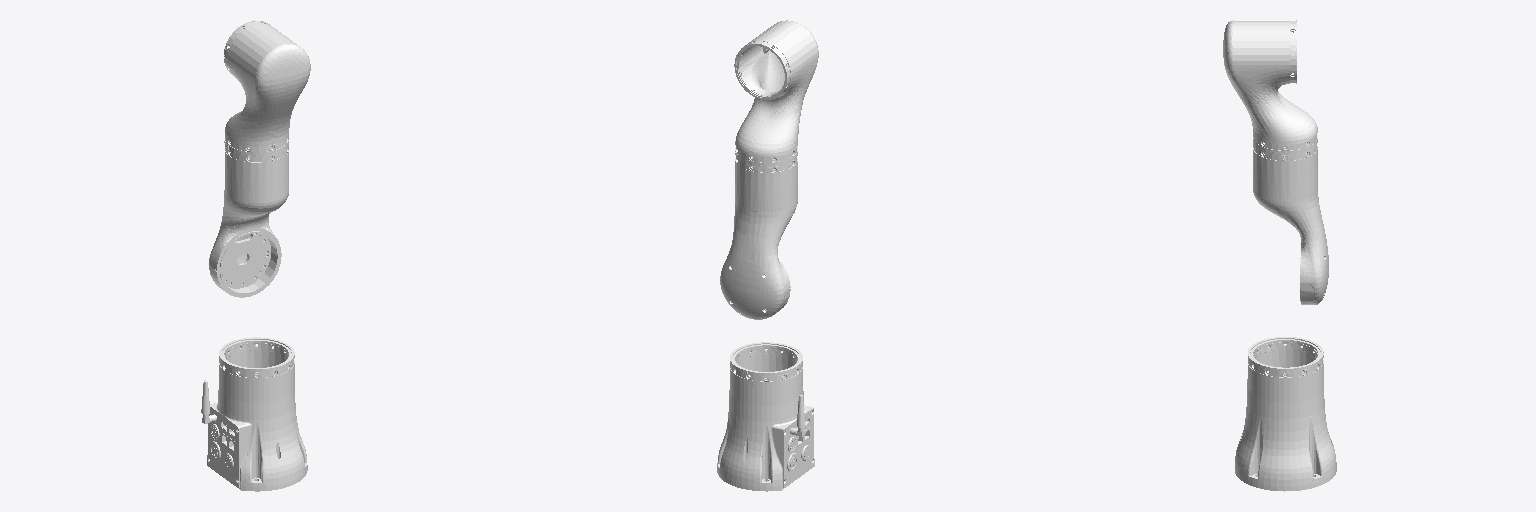
URDF robot description (rm_75_description):
<robot
  name="rm_75_description">
  <link
    name="base_link">
    <inertial>
      <origin
        xyz="-0.00036413 0.00018052 0.052375"
        rpy="0 0 0" />
      <mass
        value="0.31318" />
      <inertia
        ixx="0.00073728"
        ixy="1.5275E-06"
        ixz="1.7514E-05"
        iyy="0.00072364"
        iyz="8.0836E-07"
        izz="0.00048703" />
    </inertial>
    <visual>
      <origin
        xyz="0 0 0"
        rpy="0 0 0" />
      <geometry>
        <mesh
          filename="package://rm_75_description/meshes/base_link.STL" />
      </geometry>
      <material
        name="">
        <color
          rgba="1 1 1 1" />
      </material>
    </visual>
    <collision>
      <origin
        xyz="0 0 0"
        rpy="0 0 0" />
      <geometry>
        <mesh
          filename="package://rm_75_description/meshes/base_link.STL" />
      </geometry>
    </collision>
  </link>
  <link
    name="Link1">
    <inertial>
      <origin
        xyz="-1.7986E-05 -0.0216 0.071926"
        rpy="0 0 0" />
      <mass
        value="0.20084" />
      <inertia
        ixx="0.00053114"
        ixy="-4.3278E-07"
        ixz="1.0479E-06"
        iyy="0.00049744"
        iyz="0.00010625"
        izz="0.0002821" />
    </inertial>
    <visual>
      <origin
        xyz="0 0 0"
        rpy="0 0 0" />
      <geometry>
        <mesh
          filename="package://rm_75_description/meshes/Link1.STL" />
      </geometry>
      <material
        name="">
        <color
          rgba="1 1 1 1" />
      </material>
    </visual>
    <collision>
      <origin
        xyz="0 0 0"
        rpy="0 0 0" />
      <geometry>
        <mesh
          filename="package://rm_75_description/meshes/Link1.STL" />
      </geometry>
    </collision>
  </link>
  <joint
    name="joint1"
    type="revolute">
    <origin
      xyz="-0.00019414 -0.0001 0.138"
      rpy="0 0 0" />
    <parent
      link="base_link" />
    <child
      link="Link1" />
    <axis
      xyz="0 0 1" />
    <limit
      lower="-3.14"
      upper="3.14"
      effort="300"
      velocity="3.14" />
    <dynamics
      damping="50"
      friction="1" />
  </joint>
  <link
    name="Link2">
    <inertial>
      <origin
        xyz="0.06408 -9.195E-07 0.0021525"
        rpy="0 0 0" />
      <mass
        value="0.18101" />
      <inertia
        ixx="0.00017127"
        ixy="9.5334E-09"
        ixz="-0.00011909"
        iyy="0.00056507"
        iyz="7.4924E-10"
        izz="0.00056467" />
    </inertial>
    <visual>
      <origin
        xyz="0 0 0"
        rpy="0 0 0" />
      <geometry>
        <mesh
          filename="package://rm_75_description/meshes/Link2.STL" />
      </geometry>
      <material
        name="">
        <color
          rgba="1 1 1 1" />
      </material>
    </visual>
    <collision>
      <origin
        xyz="0 0 0"
        rpy="0 0 0" />
      <geometry>
        <mesh
          filename="package://rm_75_description/meshes/Link2.STL" />
      </geometry>
    </collision>
  </link>
  <joint
    name="joint2"
    type="revolute">
    <origin
      xyz="0 0.016171 0.1012"
      rpy="1.5708 -1.5708 0" />
    <parent
      link="Link1" />
    <child
      link="Link2" />
    <axis
      xyz="0 0 -1" />
    <limit
      lower="-2.269"
      upper="2.269"
      effort="300"
      velocity="3.14" />
    <dynamics
      damping="50"
      friction="1" />
  </joint>
  <link
    name="Link3">
    <inertial>
      <origin
        xyz="-9.2535E-05 0.022952 0.06984"
        rpy="0 0 0" />
      <mass
        value="0.14029" />
      <inertia
        ixx="0.00033103"
        ixy="-1.498E-07"
        ixz="-5.897E-07"
        iyy="0.00030383"
        iyz="-6.9702E-05"
        izz="0.00015901" />
    </inertial>
    <visual>
      <origin
        xyz="0 0 0"
        rpy="0 0 0" />
      <geometry>
        <mesh
          filename="package://rm_75_description/meshes/Link3.STL" />
      </geometry>
      <material
        name="">
        <color
          rgba="1 1 1 1" />
      </material>
    </visual>
    <collision>
      <origin
        xyz="0 0 0"
        rpy="0 0 0" />
      <geometry>
        <mesh
          filename="package://rm_75_description/meshes/Link3.STL" />
      </geometry>
    </collision>
  </link>
  <joint
    name="joint3"
    type="revolute">
    <origin
      xyz="0.1525 0 0.016461"
      rpy="1.5708 0 1.5708" />
    <parent
      link="Link2" />
    <child
      link="Link3" />
    <axis
      xyz="0 0 1" />
    <limit
      lower="-3.14"
      upper="3.14"
      effort="300"
      velocity="3.14" />
    <dynamics
      damping="50"
      friction="1" />
  </joint>
  <link
    name="Link4">
    <inertial>
      <origin
        xyz="-3.5669E-06 -0.051287 2.1095E-05"
        rpy="0 0 0" />
      <mass
        value="0.10277" />
      <inertia
        ixx="0.00023647"
        ixy="-2.8544E-09"
        ixz="-4.0488E-10"
        iyy="7.3686E-05"
        iyz="5.2218E-05"
        izz="0.00023387" />
    </inertial>
    <visual>
      <origin
        xyz="0 0 0"
        rpy="0 0 0" />
      <geometry>
        <mesh
          filename="package://rm_75_description/meshes/Link4.STL" />
      </geometry>
      <material
        name="">
        <color
          rgba="1 1 1 1" />
      </material>
    </visual>
    <collision>
      <origin
        xyz="0 0 0"
        rpy="0 0 0" />
      <geometry>
        <mesh
          filename="package://rm_75_description/meshes/Link4.STL" />
      </geometry>
    </collision>
  </link>
  <joint
    name="joint4"
    type="revolute">
    <origin
      xyz="0 -0.012936 0.10326"
      rpy="-1.5708 -1.2512E-12 -4.4936E-28" />
    <parent
      link="Link3" />
    <child
      link="Link4" />
    <axis
      xyz="0 0 -1" />
    <limit
      lower="-2.355"
      upper="2.355"
      effort="300"
      velocity="3.14" />
    <dynamics
      damping="50"
      friction="1" />
  </joint>
  <link
    name="Link5">
    <inertial>
      <origin
        xyz="6.7914E-05 0.017207 0.05505"
        rpy="0 0 0" />
      <mass
        value="0.075153" />
      <inertia
        ixx="0.00011497"
        ixy="1.5504E-08"
        ixz="2.0317E-07"
        iyy="0.00010599"
        iyz="-2.14E-05"
        izz="5.7124E-05" />
    </inertial>
    <visual>
      <origin
        xyz="0 0 0"
        rpy="0 0 0" />
      <geometry>
        <mesh
          filename="package://rm_75_description/meshes/Link5.STL" />
      </geometry>
      <material
        name="">
        <color
          rgba="1 1 1 1" />
      </material>
    </visual>
    <collision>
      <origin
        xyz="0 0 0"
        rpy="0 0 0" />
      <geometry>
        <mesh
          filename="package://rm_75_description/meshes/Link5.STL" />
      </geometry>
    </collision>
  </link>
  <joint
    name="joint5"
    type="revolute">
    <origin
      xyz="0 -0.128 0.013234"
      rpy="1.5708 0 1.2512E-12" />
    <parent
      link="Link4" />
    <child
      link="Link5" />
    <axis
      xyz="0 0 1" />
    <limit
      lower="-3.14"
      upper="3.14"
      effort="300"
      velocity="3.14" />
    <dynamics
      damping="50"
      friction="1" />
  </joint>
  <link
    name="Link6">
    <inertial>
      <origin
        xyz="-2.1459E-06 -0.04912 0.0023694"
        rpy="0 0 0" />
      <mass
        value="0.071658" />
      <inertia
        ixx="0.00013538"
        ixy="2.1752E-09"
        ixz="8.5562E-10"
        iyy="4.6775E-05"
        iyz="2.9237E-05"
        izz="0.00013207" />
    </inertial>
    <visual>
      <origin
        xyz="0 0 0"
        rpy="0 0 0" />
      <geometry>
        <mesh
          filename="package://rm_75_description/meshes/Link6.STL" />
      </geometry>
      <material
        name="">
        <color
          rgba="1 1 1 1" />
      </material>
    </visual>
    <collision>
      <origin
        xyz="0 0 0"
        rpy="0 0 0" />
      <geometry>
        <mesh
          filename="package://rm_75_description/meshes/Link6.STL" />
      </geometry>
    </collision>
  </link>
  <joint
    name="joint6"
    type="revolute">
    <origin
      xyz="0 -0.0121 0.0815"
      rpy="-1.5708 2.359E-12 5.6484E-28" />
    <parent
      link="Link5" />
    <child
      link="Link6" />
    <axis
      xyz="0 0 -1" />
    <limit
      lower="-2.233"
      upper="2.233"
      effort="300"
      velocity="3.14" />
    <dynamics
      damping="50"
      friction="1" />
  </joint>
  <link
    name="Link7">
    <inertial>
      <origin
        xyz="0.00061092 0.00022624 0.021716"
        rpy="0 0 0" />
      <mass
        value="0.032148" />
      <inertia
        ixx="1.2E-05"
        ixy="-2.8237E-08"
        ixz="9.4221E-08"
        iyy="1.1551E-05"
        iyz="-4.2363E-08"
        izz="1.7726E-05" />
    </inertial>
    <visual>
      <origin
        xyz="0 0 0"
        rpy="0 0 0" />
      <geometry>
        <mesh
          filename="package://rm_75_description/meshes/Link7.STL" />
      </geometry>
      <material
        name="">
        <color
          rgba="1 1 1 1" />
      </material>
    </visual>
    <collision>
      <origin
        xyz="0 0 0"
        rpy="0 0 0" />
      <geometry>
        <mesh
          filename="package://rm_75_description/meshes/Link7.STL" />
      </geometry>
    </collision>
  </link>
  <joint
    name="joint7"
    type="revolute">
    <origin
      xyz="0 -0.115 0.012437"
      rpy="1.5708 0 -2.359E-12" />
    <parent
      link="Link6" />
    <child
      link="Link7" />
    <axis
      xyz="0 0 1" />
    <limit
      lower="-6.28"
      upper="6.28"
      effort="300"
      velocity="1" />
    <dynamics
      damping="50"
      friction="1" />
  </joint>
</robot>

--- What the picture shows (computed from the rendered views, not written in the file) ---
3 views of the same robot in one strip: view 1: azimuth 30°, elevation 25°; view 2: azimuth 150°, elevation 25°; view 3: azimuth 270°, elevation 25° (orthographic).
Model rm_75_description with 8 links and 7 joints (7 revolute), rooted at base_link, posed every joint at zero.
Links seen in each view (by area): view 1: base_link, Link2, Link3; view 2: base_link, Link2, Link3; view 3: base_link, Link3, Link2.
Boxes of the visible links, x1,y1,x2,y2 form: base_link: (201, 337, 307, 491); Link2: (209, 141, 288, 297); Link3: (224, 20, 310, 153); base_link: (717, 342, 814, 491); Link2: (720, 152, 797, 319); Link3: (734, 20, 818, 164); base_link: (1235, 337, 1336, 491); Link3: (1223, 20, 1317, 152); Link2: (1253, 141, 1328, 304).
Size in the robot's own frame: 0.114 by 0.1223 by 0.53 metres.
Meshes: 8 distinct files referenced, 3 mesh visuals loaded (3 binary STL); not drawn: 5 (reference not matched to a file when rendering).